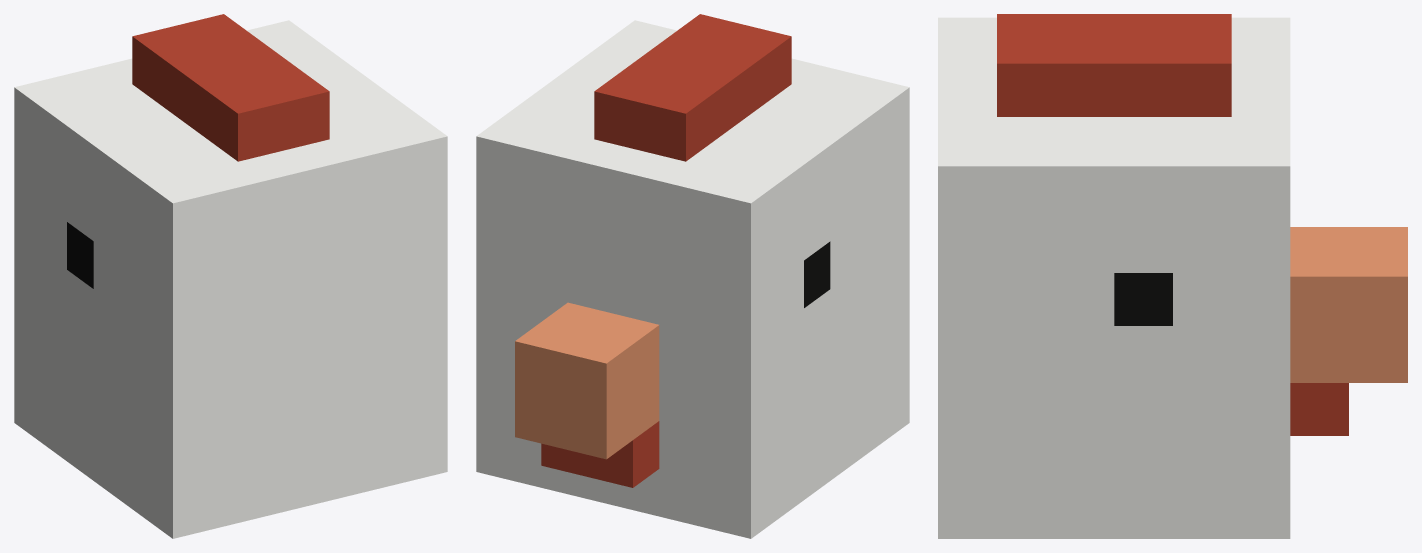
The model's file is entity14228.gltf.
3 views of the same model, side by side, from view 1: azimuth 30°, elevation 25°; view 2: azimuth 150°, elevation 25°; view 3: azimuth 270°, elevation 25° (orthographic). The views are drawn at different scales.
Visible parts, largest first — view 1: node_Head; view 2: node_Head; view 3: node_Head.
Part boxes in pixels (<box>): node_Head: <box>14,14,447,538</box>; node_Head: <box>476,14,909,538</box>; node_Head: <box>938,14,1407,538</box>.
Bounding box in the file's own units: 0.006 × 0.008 × 0.008.
1 material, 1 textured.
